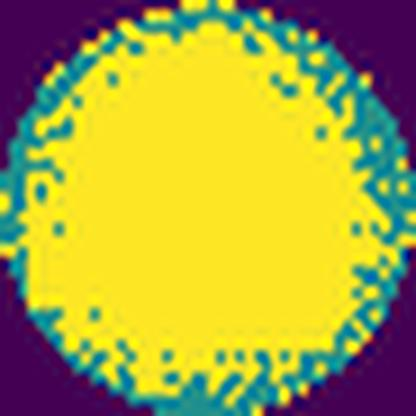Near-full: (26, 24, 375, 375)
